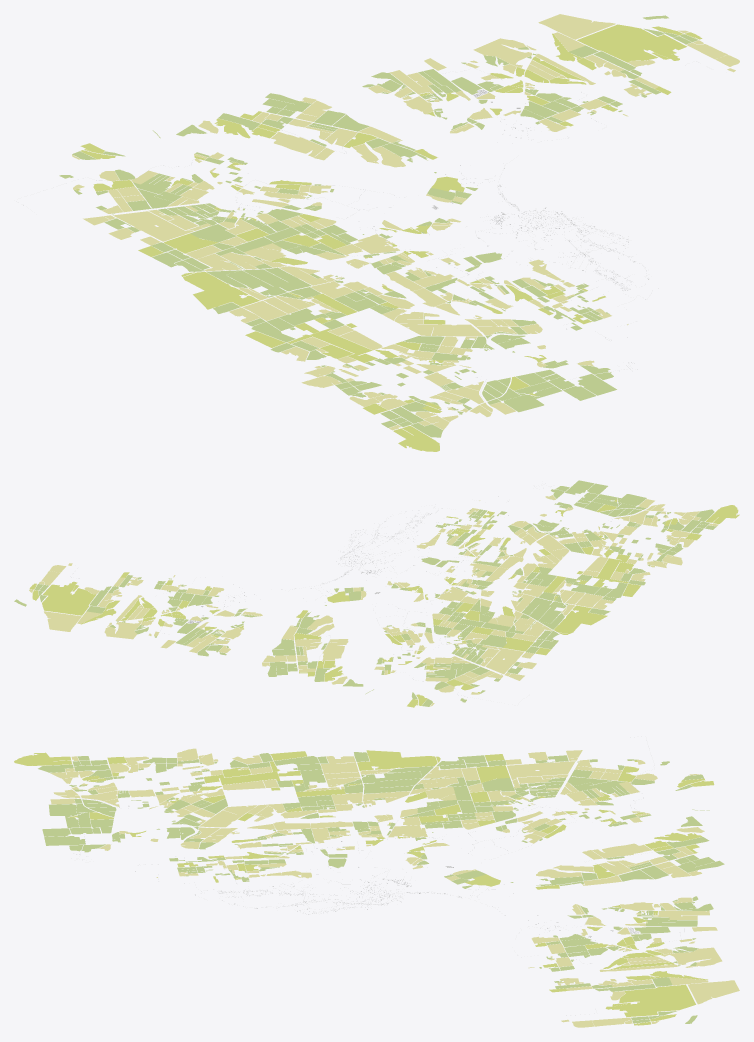
The model's file is TILE_04_00_REST_BATCH_06.glb.
3 renders of one model, top to bottom at view 1: azimuth 30°, elevation 25°; view 2: azimuth 150°, elevation 25°; view 3: azimuth 270°, elevation 25°, orthographic. The views are drawn at different scales.
Parts seen in each view (by area): view 1: WEB_landuse_f0; view 2: WEB_landuse_f0; view 3: WEB_landuse_f0.
Part boxes in pixels (x1,y1,x2,y2): WEB_landuse_f0: [59, 14, 739, 451]; WEB_landuse_f0: [14, 480, 739, 707]; WEB_landuse_f0: [14, 748, 739, 1027].
Size of the model in its own units: 66416 by 8.29 by 69889.
